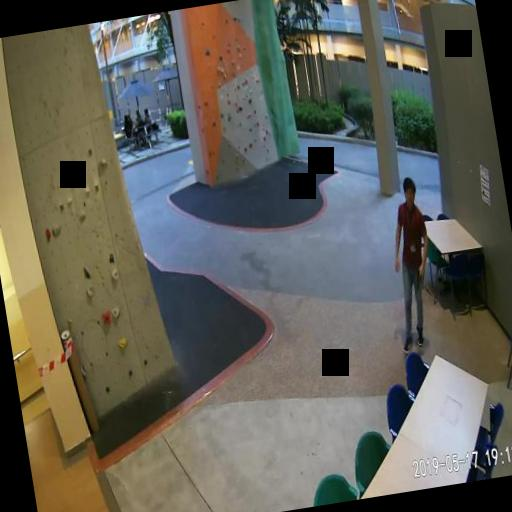Handgun: (412, 266, 424, 288)
